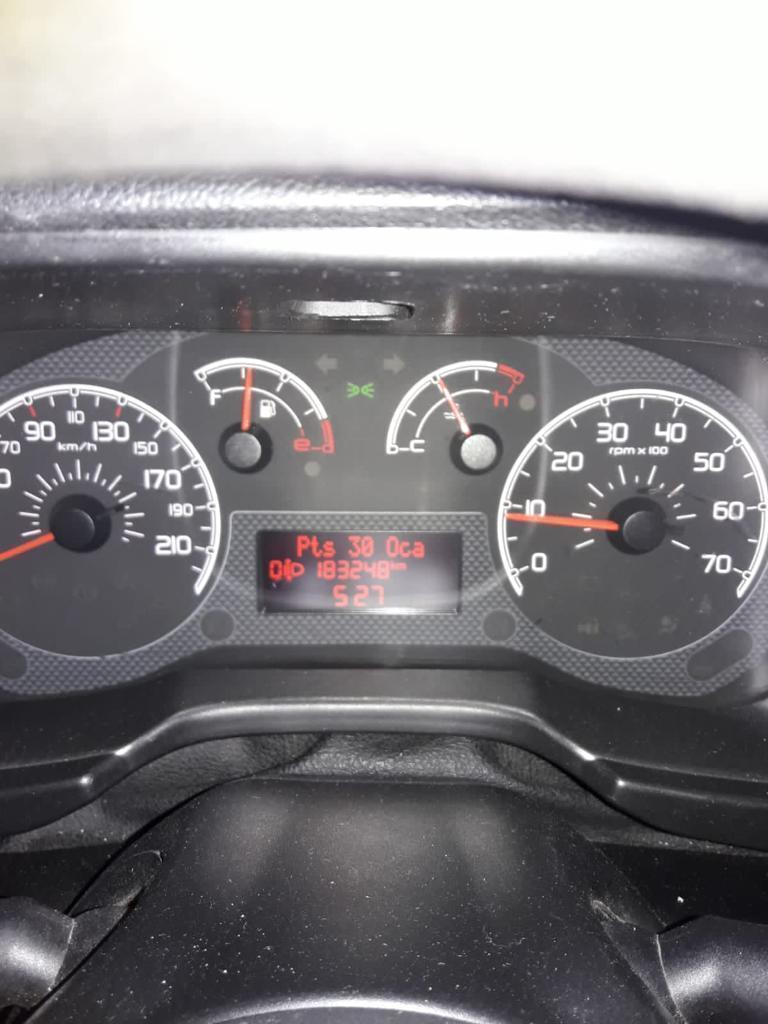0: (268, 558, 282, 580), (360, 535, 373, 557), (376, 560, 389, 579)
1: (316, 560, 322, 580)
2: (352, 584, 368, 606), (349, 559, 363, 579)
3: (347, 535, 360, 557), (336, 559, 349, 579)
4: (363, 561, 376, 578)
5: (332, 584, 347, 607)
7: (370, 584, 384, 606)
8: (322, 560, 335, 579)
X: (385, 535, 399, 557), (296, 535, 310, 557), (310, 535, 322, 557), (322, 540, 336, 557), (412, 541, 425, 557), (399, 541, 411, 557), (396, 561, 408, 571), (389, 559, 395, 570)
odometer: (255, 528, 464, 614)
